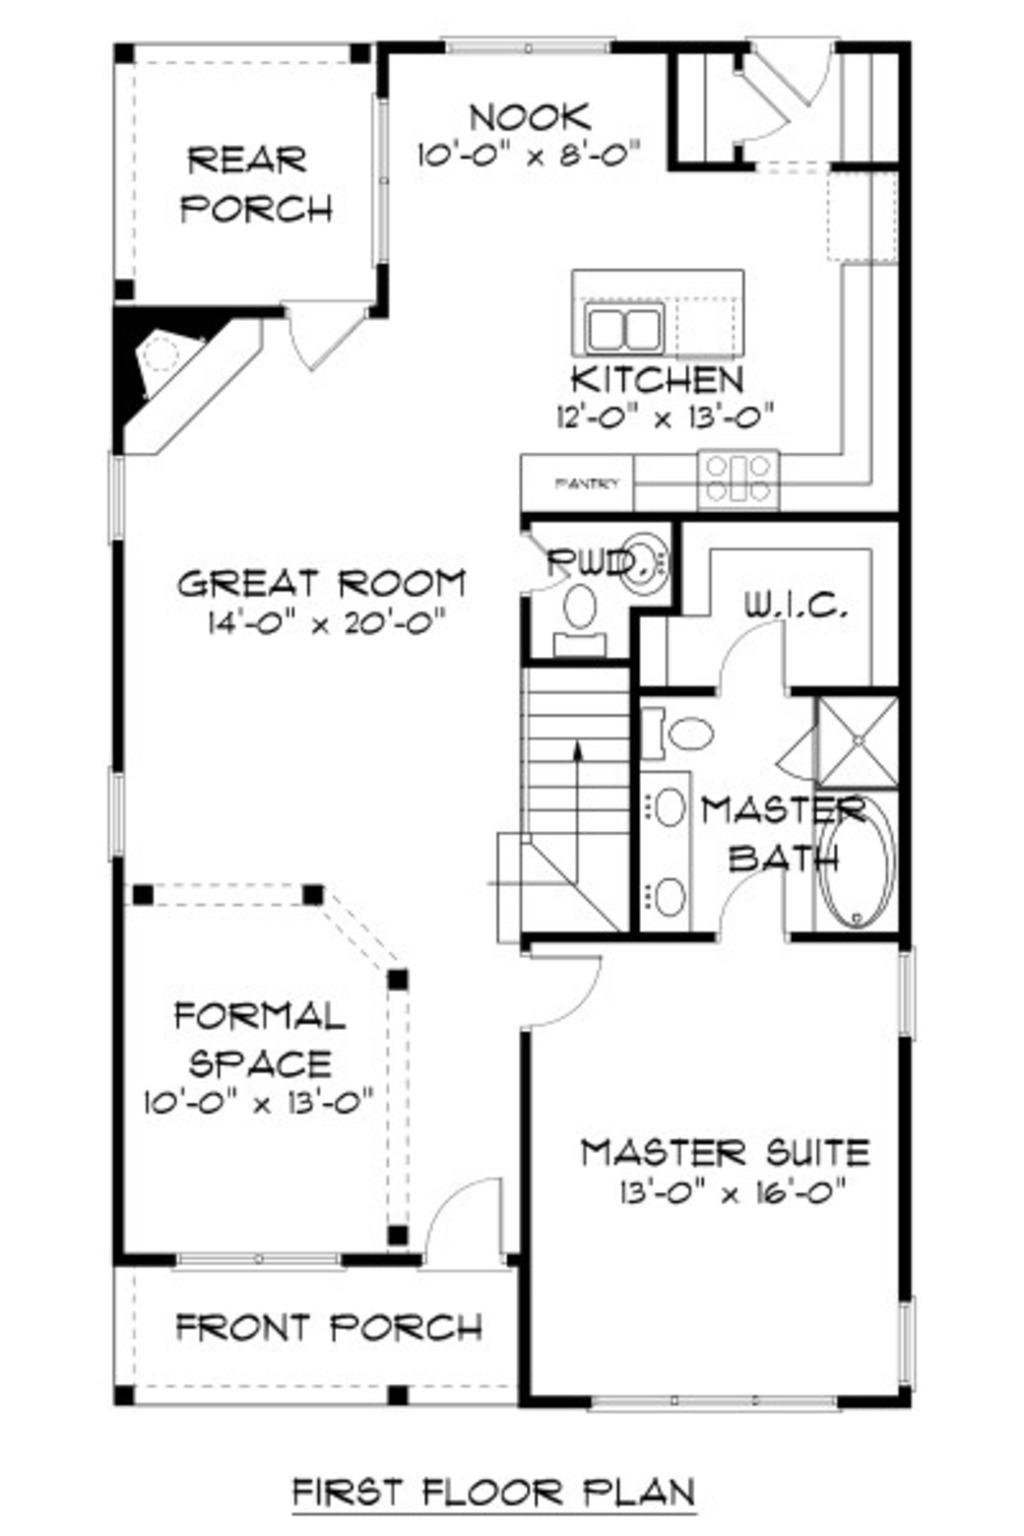door: (414, 1181, 517, 1274), (509, 943, 609, 1035), (280, 286, 376, 373), (704, 605, 795, 695), (752, 33, 847, 119), (714, 855, 795, 945), (514, 523, 581, 593), (733, 75, 785, 160)
kitchen_bar: (554, 267, 759, 367)
large_sink: (633, 695, 735, 763), (549, 583, 609, 664)
small_sink: (649, 769, 704, 936)
stairs: (475, 669, 649, 936)
tub: (816, 795, 897, 941)
twin_sink: (566, 295, 671, 362)
window: (359, 88, 409, 267), (578, 1387, 854, 1419), (159, 1243, 347, 1275), (442, 31, 618, 62), (883, 945, 933, 1038), (91, 762, 139, 853), (102, 443, 133, 538), (895, 1288, 917, 1403)
